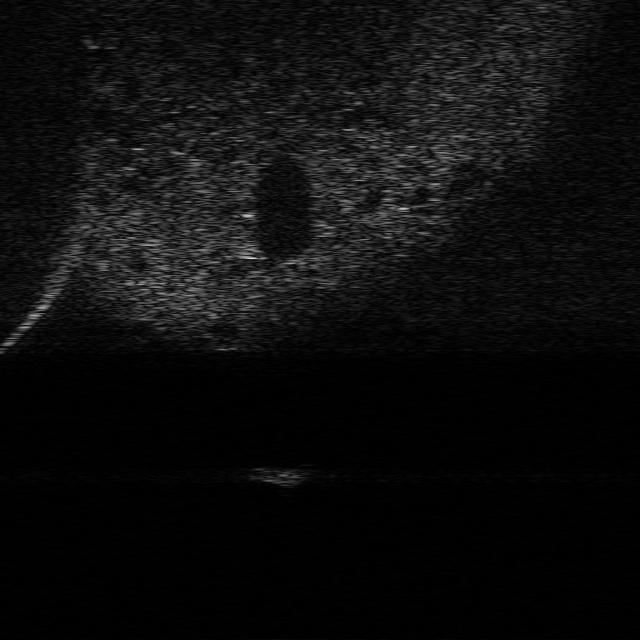cube: (248, 461, 314, 487)
